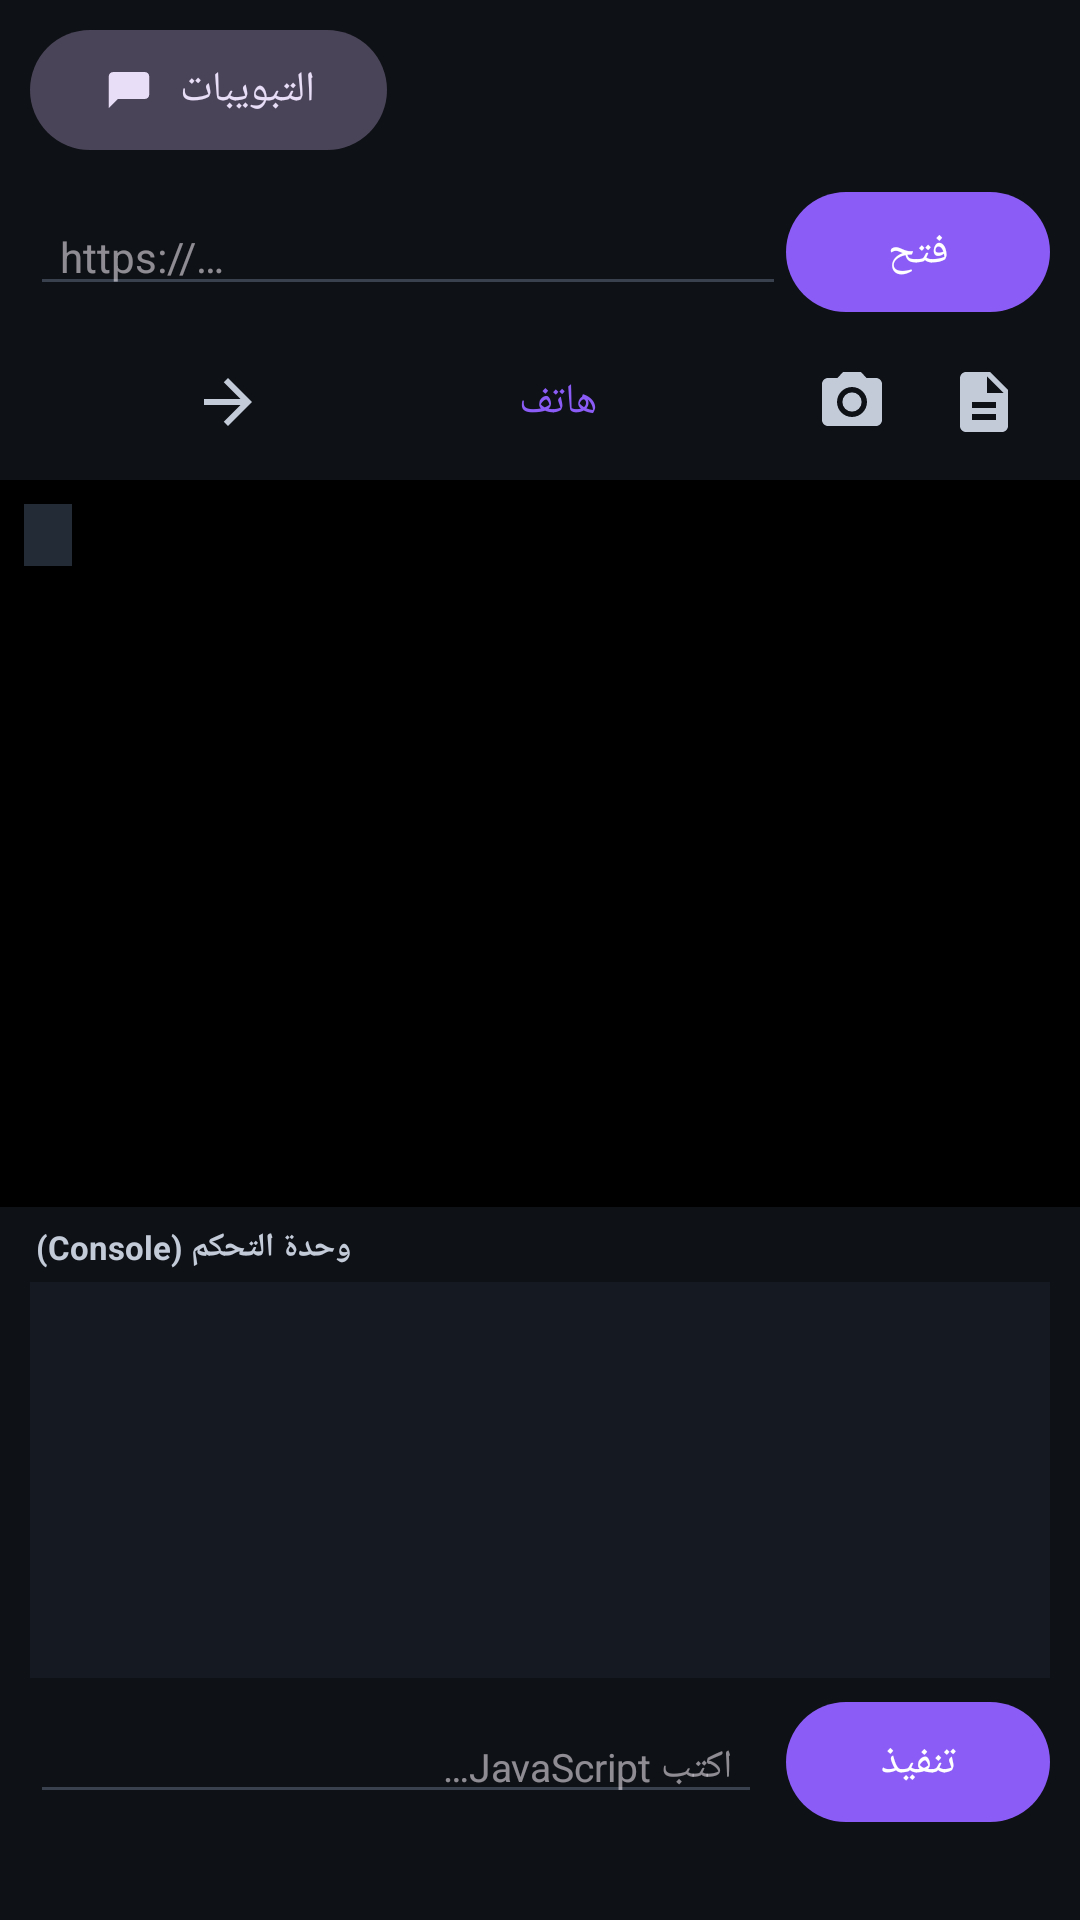

Icon bounding boxes for this 1080 x 1920 phone screenshot, format box(x1, y1, x2, y2):
forward: box(204, 378, 252, 426)
لقطة: box(822, 372, 882, 426)
